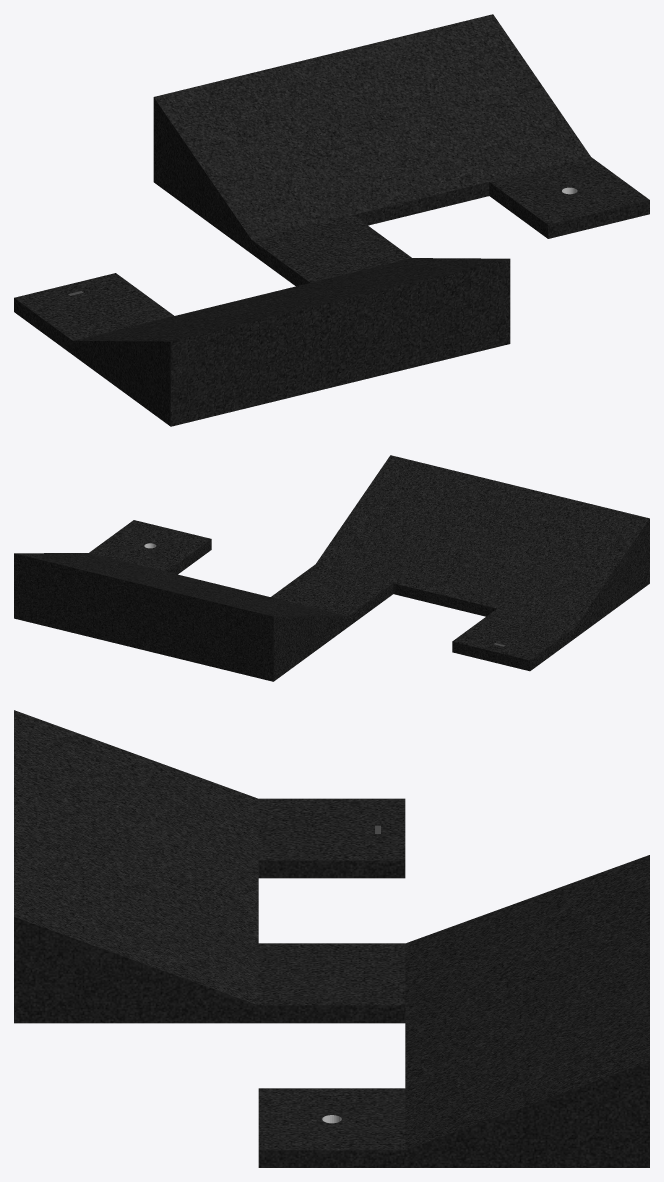
File: Hole 8 Base.glb
3 views of the same model, one above another, from view 1: azimuth 30°, elevation 25°; view 2: azimuth 150°, elevation 25°; view 3: azimuth 270°, elevation 25° (orthographic). The views are drawn at different scales.
Parts seen in each view (by area): view 1: Hole 8 Base; view 2: Hole 8 Base; view 3: Hole 8 Base.
Boxes of the visible parts, bbox=[...] form: Hole 8 Base: bbox=[14, 14, 649, 426]; Hole 8 Base: bbox=[14, 455, 649, 681]; Hole 8 Base: bbox=[14, 710, 649, 1167].
Size of what is drawn, in the model's own units: 17 by 2.4 by 13.
Materials: 3 (1 with a texture image).
